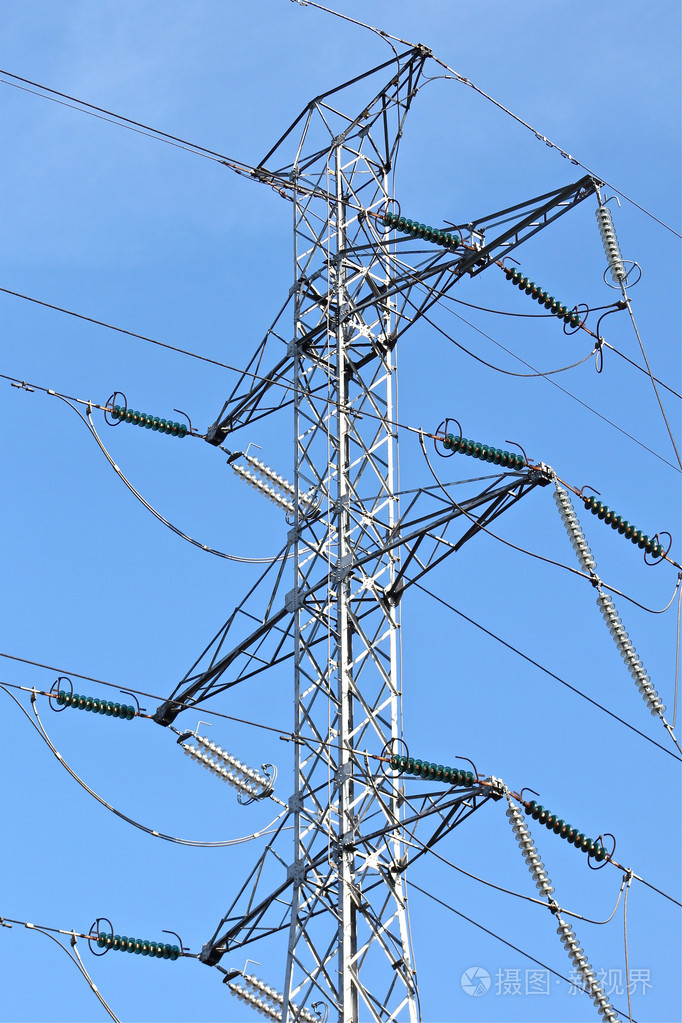insulator: (596, 592, 665, 719), (556, 916, 619, 1018), (183, 734, 264, 799), (504, 267, 586, 331), (584, 496, 665, 560), (230, 454, 306, 516), (528, 804, 609, 861), (233, 973, 309, 1023), (505, 810, 550, 893), (378, 209, 460, 250), (438, 432, 528, 468), (551, 485, 590, 568), (391, 753, 477, 789), (106, 406, 189, 442), (93, 930, 181, 961), (54, 687, 136, 720), (598, 208, 622, 283)
